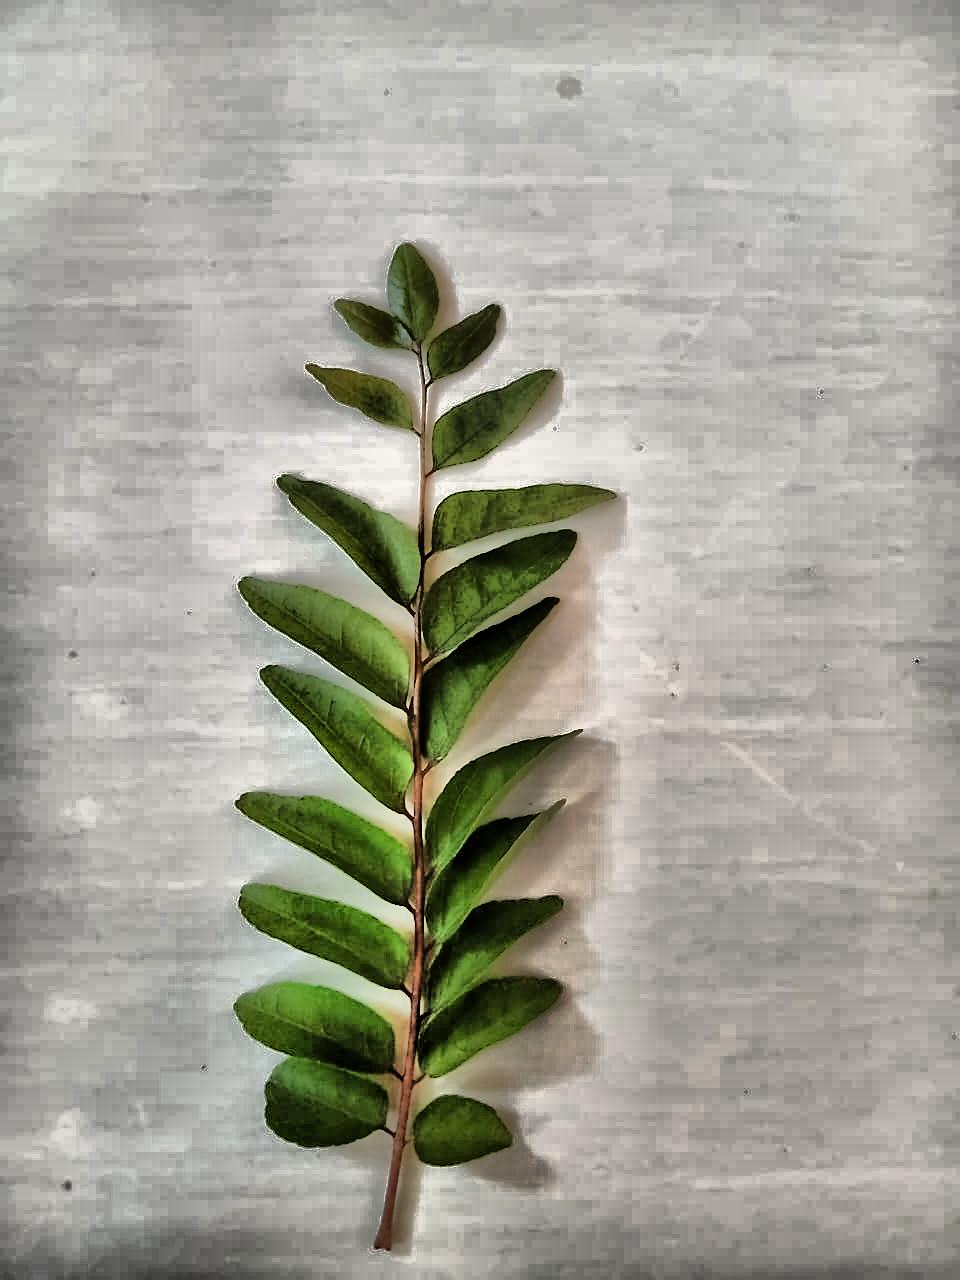daun kari: (235, 244, 615, 1249)
